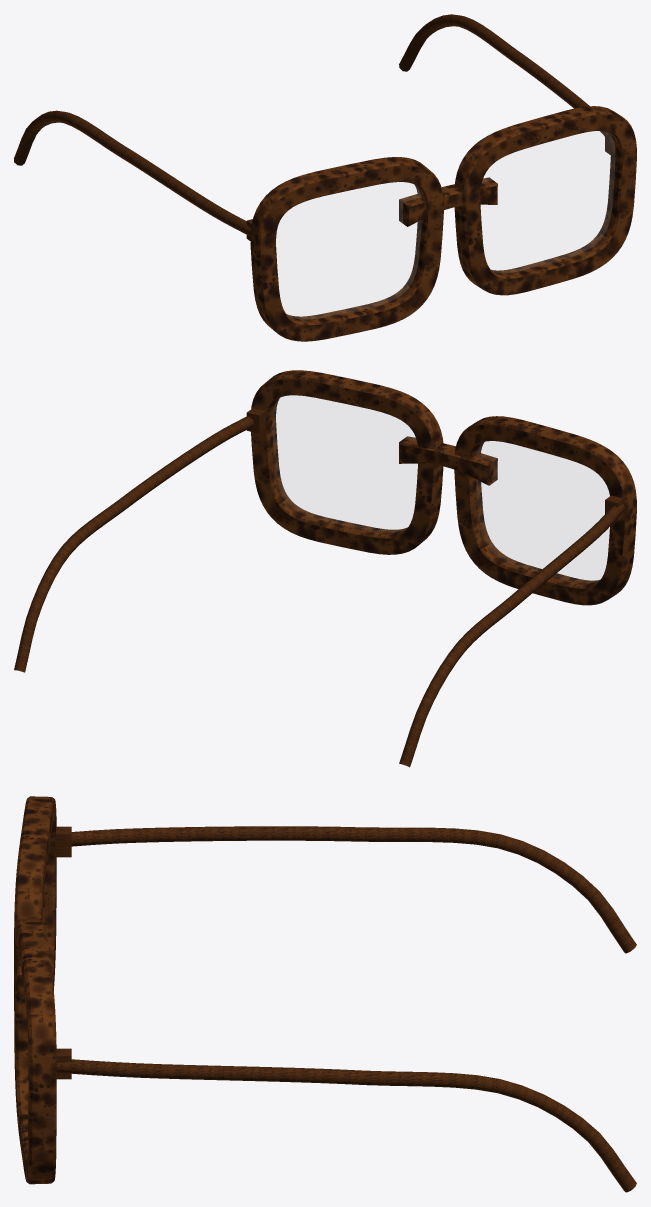
File: BM-P02_Noir_Dark_havana.glb
3 views of the same model, one above another, from view 1: azimuth 30°, elevation 25°; view 2: azimuth 150°, elevation 25°; view 3: azimuth 270°, elevation 25° (orthographic). The views are drawn at different scales.
Parts seen in each view (by area): view 1: Noir_Dark_havana_Acetate, Noir_Dark_havana_Lenses; view 2: Noir_Dark_havana_Acetate, Noir_Dark_havana_Lenses; view 3: Noir_Dark_havana_Acetate.
Boxes of the visible parts, left/top/right/bottom form: Noir_Dark_havana_Acetate: left=14, top=14, right=636, bottom=341; Noir_Dark_havana_Lenses: left=276, top=131, right=614, bottom=318; Noir_Dark_havana_Acetate: left=14, top=370, right=636, bottom=767; Noir_Dark_havana_Lenses: left=273, top=396, right=609, bottom=582; Noir_Dark_havana_Acetate: left=14, top=796, right=636, bottom=1192.
Size of the model in its own units: 0.148 by 0.0566 by 0.155.
2 materials, 1 textured.
